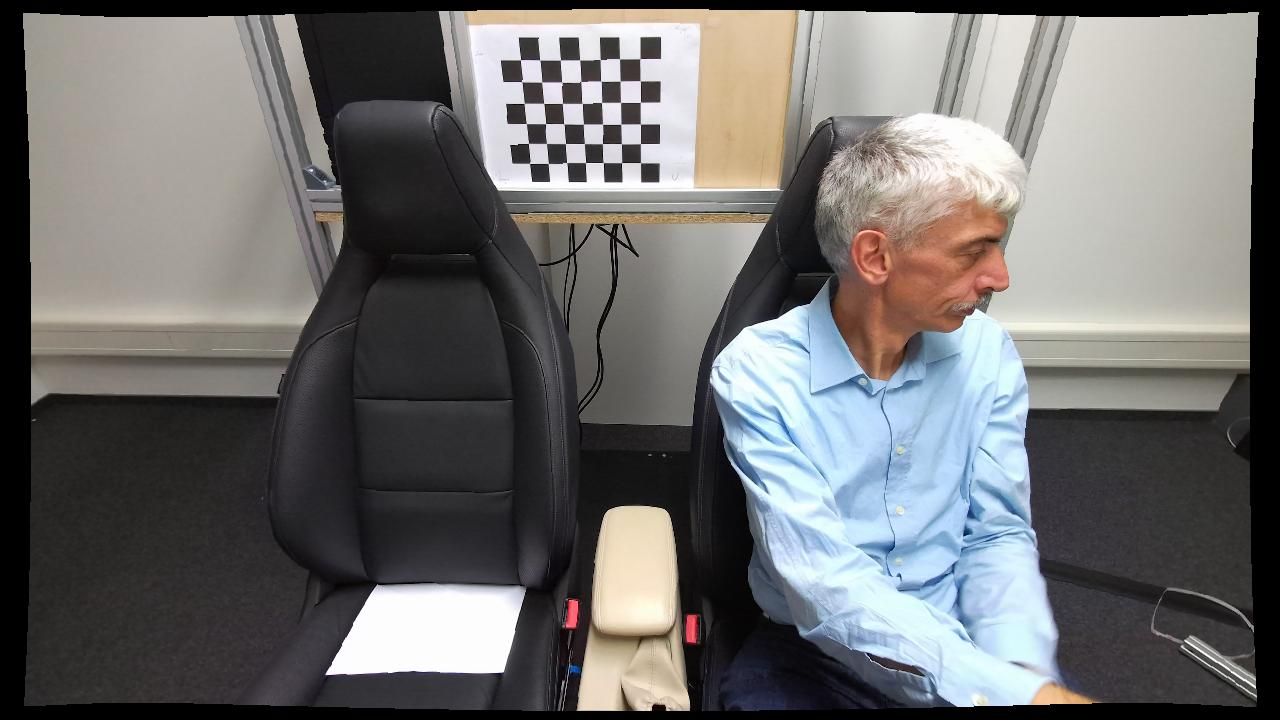Distracted: (705, 102, 1052, 718)
